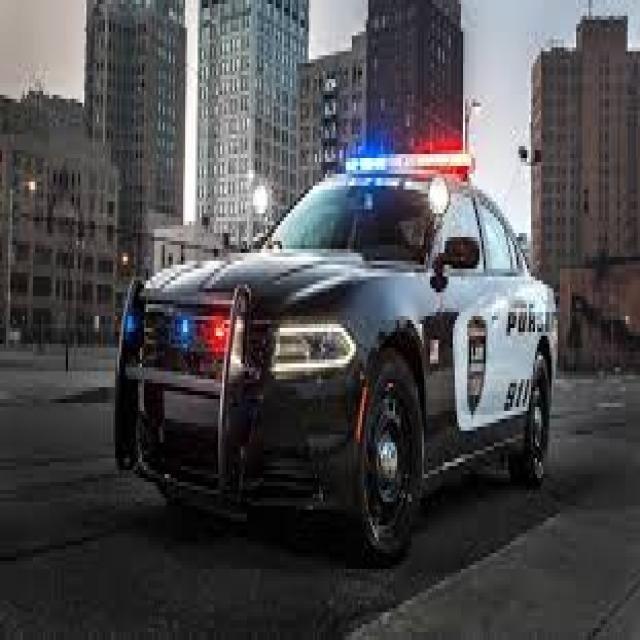cop: (114, 150, 557, 564)
